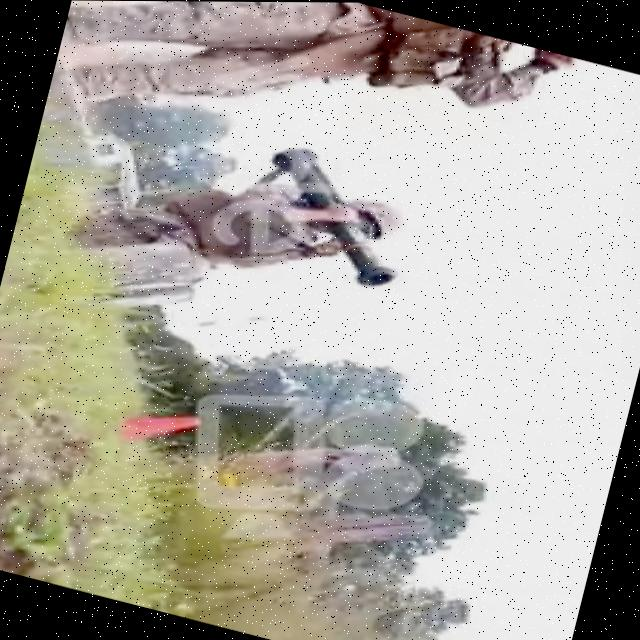rocket: (233, 114, 427, 311)
